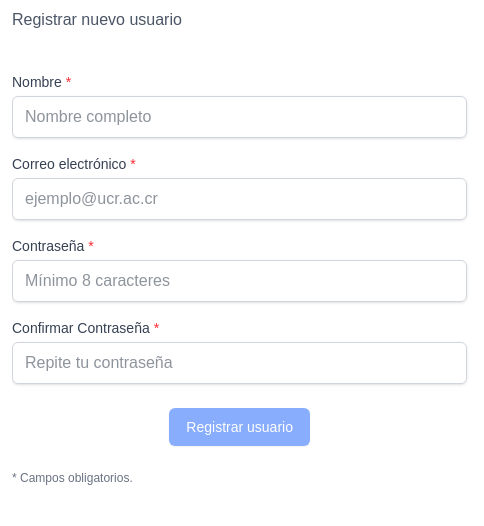
Test: RegisterUser Component › displays "Correo disponible" message when email is available
Type "available@ucr.ac.cr" into the field labelled "Correo electrónico *" at (240, 199), box [12,178,467,220]
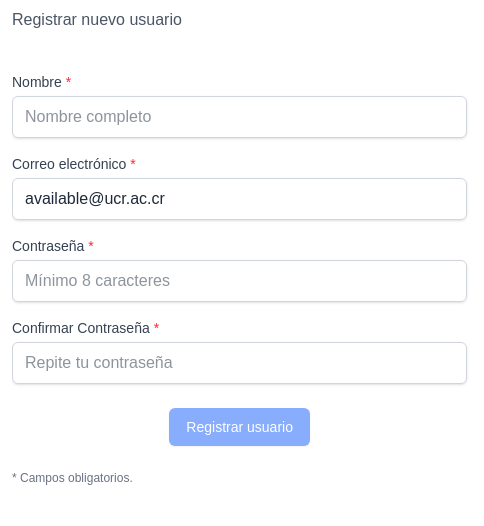
Leave the field labelled "Correo electrónico *", box [12,178,467,220]
Wait 1000 ms
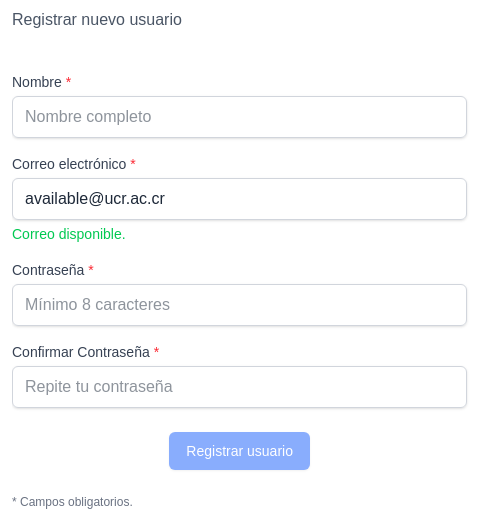
expect the text "Correo disponible." is shown: met, box [12,226,126,242]
